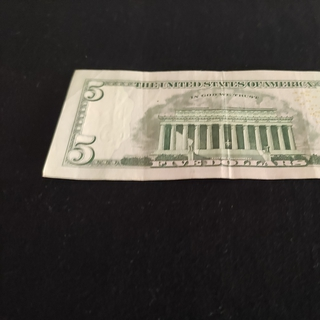5USDBack: (41, 67, 320, 181)
